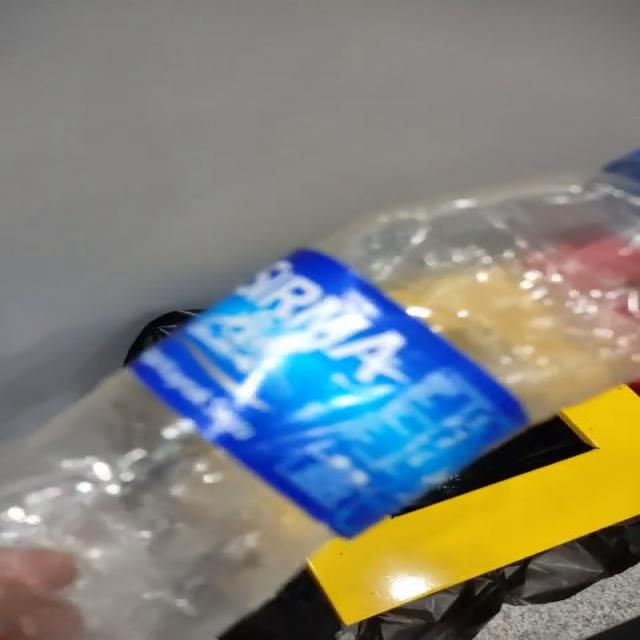plastic: (1, 155, 640, 640)
